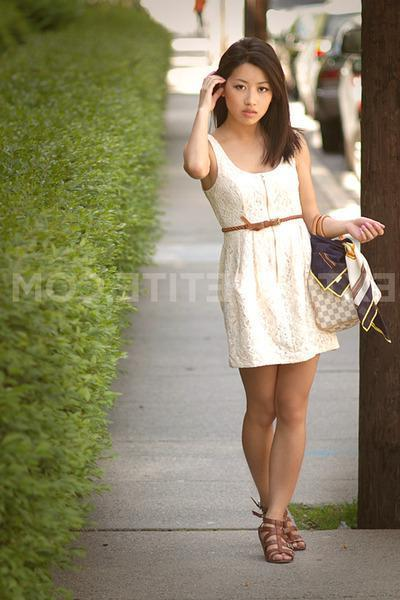dress: (206, 127, 341, 369)
